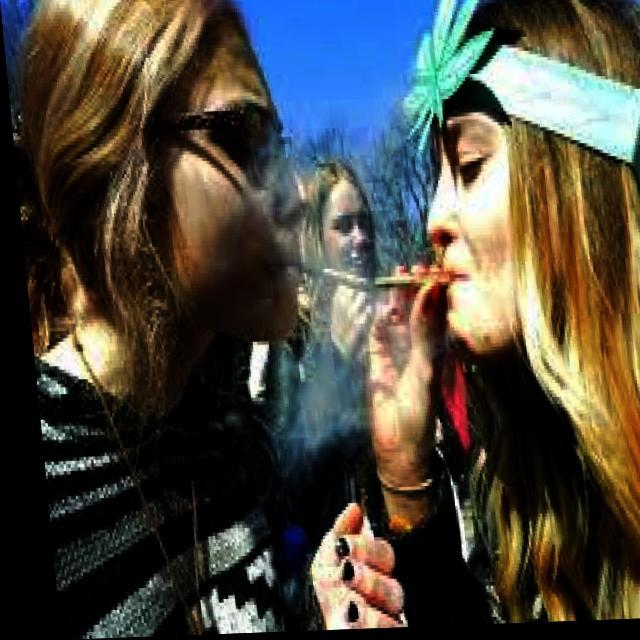Smoke: (220, 81, 460, 502)
